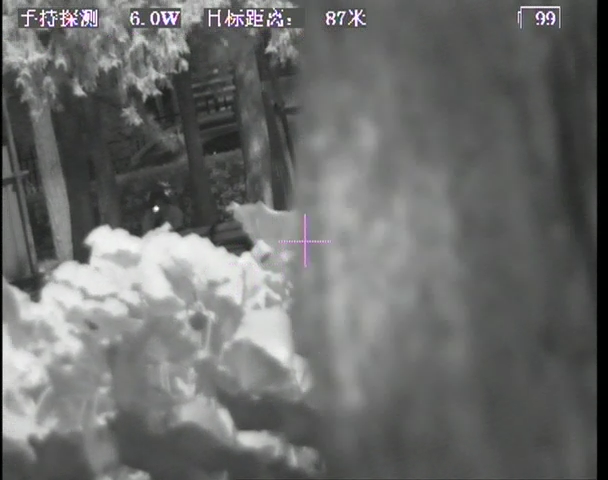my: (148, 203, 162, 215)
